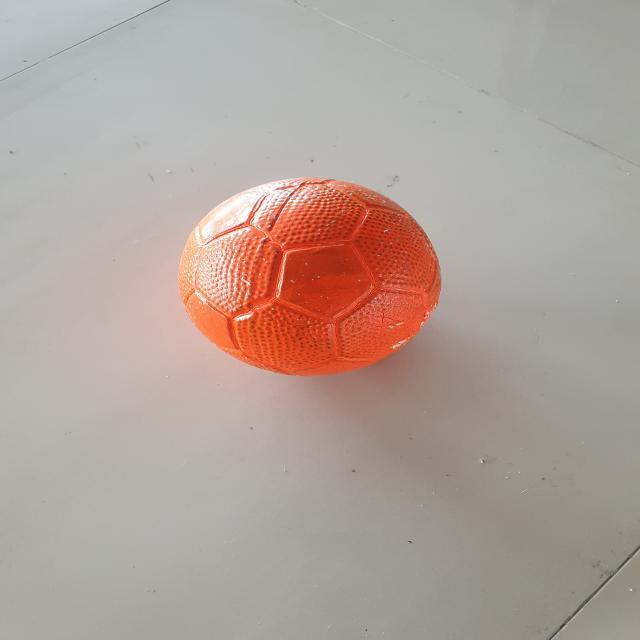bola: (164, 166, 458, 384)
